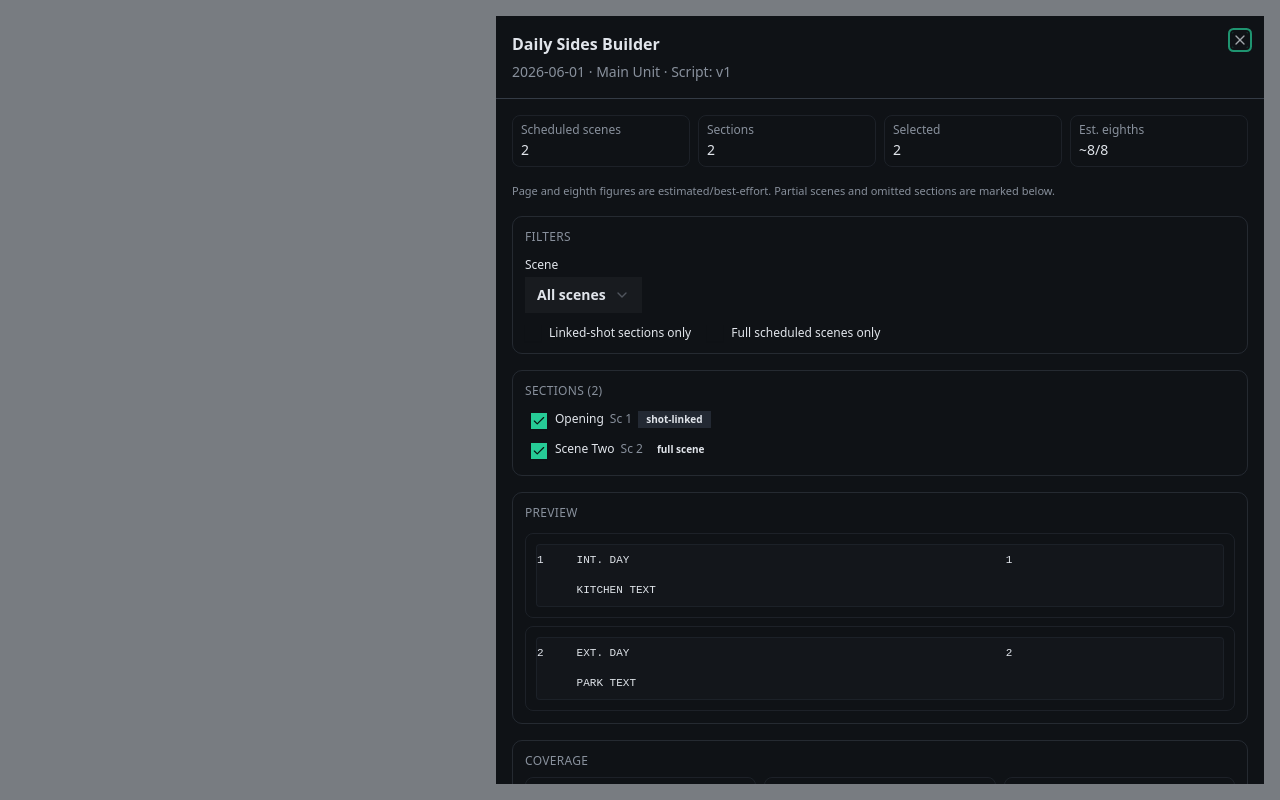
SidesBuilderSheet › disables export when no sections are selected
Expected: the text "KITCHEN TEXT" is shown, [577, 584, 656, 596]
Click the checkbox named "Include Opening" at (539,420), box [531, 412, 547, 428]
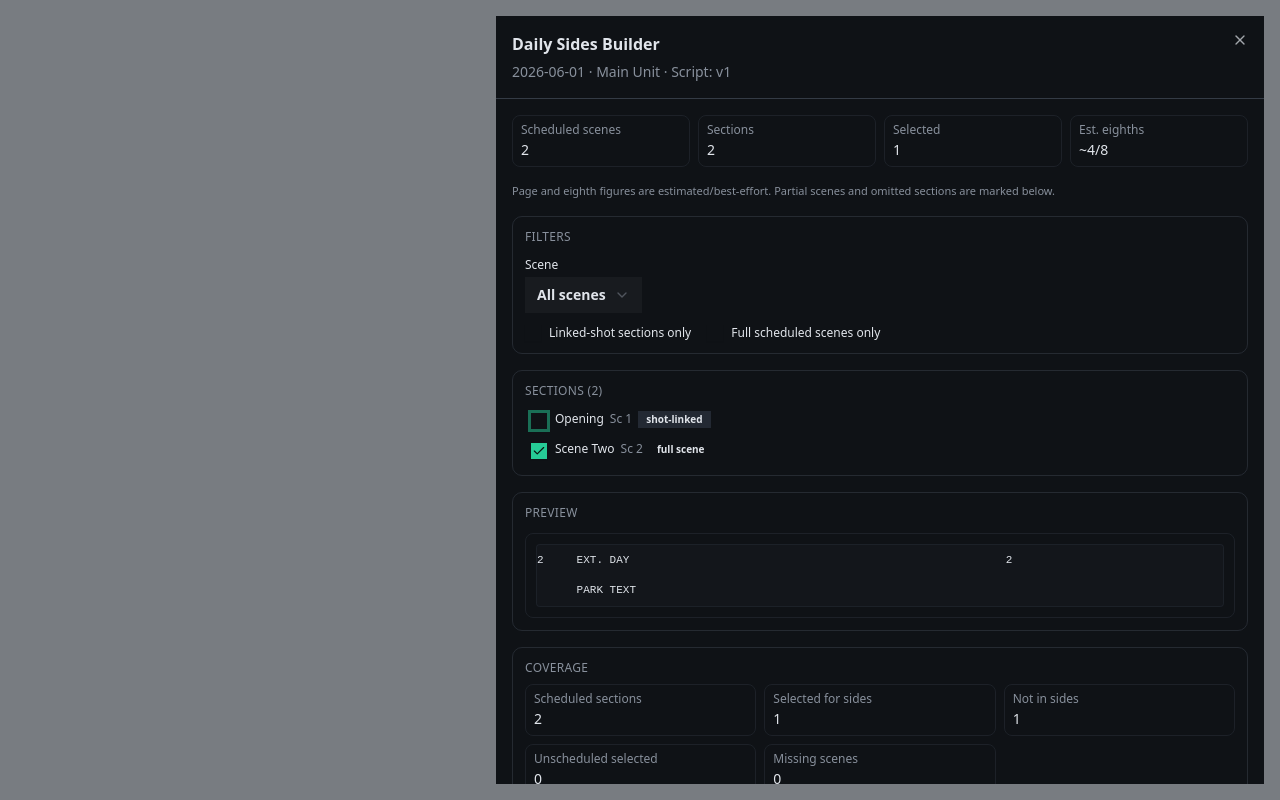
Click the checkbox named "Include Scene Two" at (539,450), box [531, 442, 547, 458]
(page scrolled)
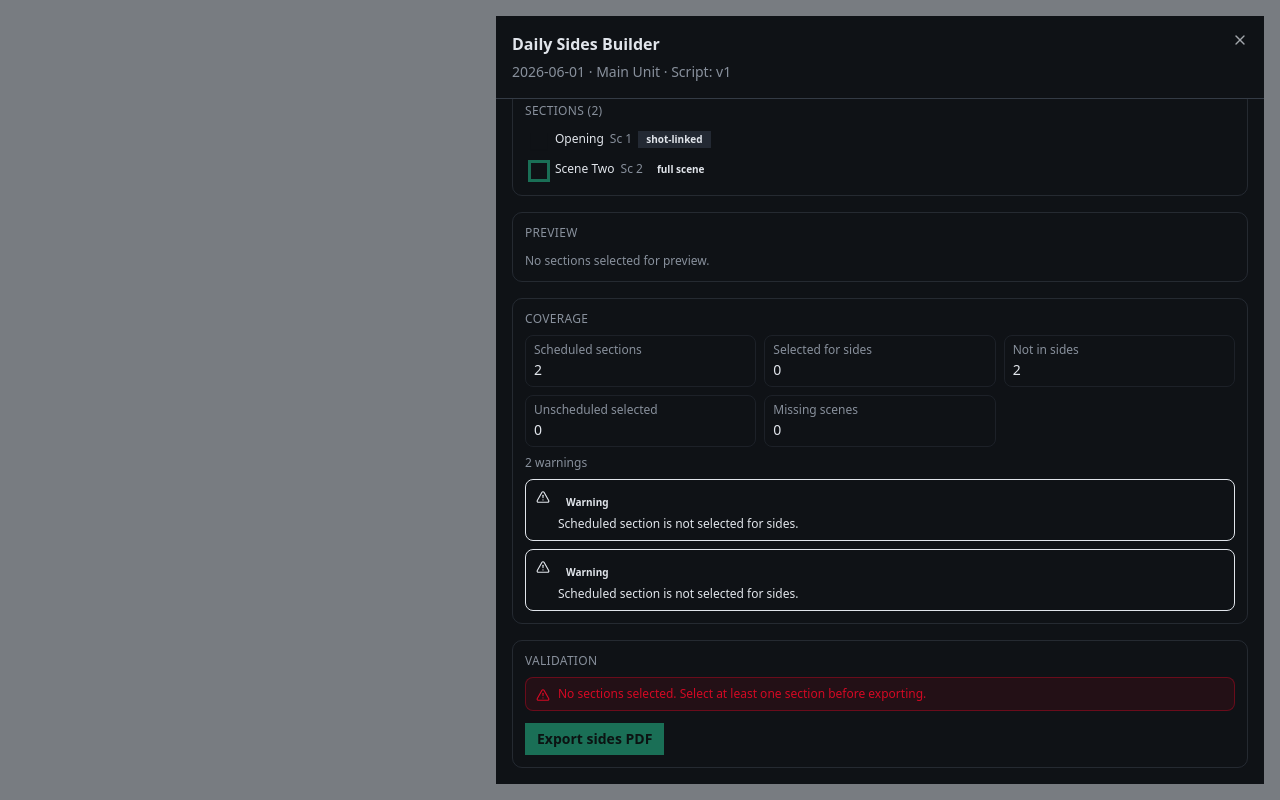
Expected: the text "No sections selected. Select at least one section before exporting." is shown, [558, 686, 926, 702]
Expected: the button "Export sides PDF" is disabled, [525, 722, 664, 754]
